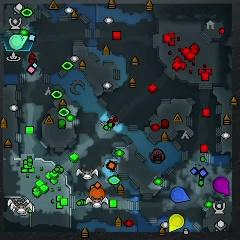p1: (170, 186, 190, 204)
p2: (8, 34, 29, 50)
p3: (214, 175, 231, 197)
p4: (168, 214, 185, 231)
p5: (89, 187, 105, 202)
